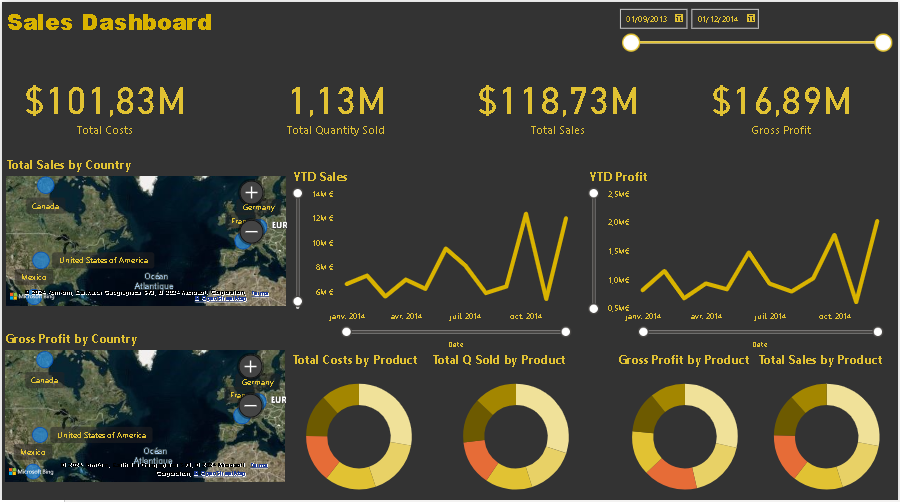

The dashboard page shown, as its layout file describes it:
{"tool":"powerbi","page":{"name":"Sales Dash","canvas":[1280,720],"ordinal":0},"visuals":[{"type":"card","fields":{"Values":["financials.Total Sales"]},"box":[640,87.3,307.4,114.2],"z":0},{"type":"card","fields":{"Values":["financials.Gross Profit"]},"box":[947.4,87.3,332.6,114.2],"z":1000},{"type":"slicer","fields":{"Values":["financials.Date"]},"box":[870.1,0,409.9,87.3],"z":2000},{"type":"donutChart","fields":{"Category":["financials.Product"],"Y":["financials.Total Sales"]},"box":[1075.1,498.9,204.9,221.7],"z":3000},{"type":"donutChart","fields":{"Y":["financials.Gross Profit"],"Category":["financials.Product"]},"box":[875.2,498.9,199.9,221.7],"z":4000},{"type":"donutChart","title":"Total Q Sold by Product","fields":{"Category":["financials.Product"],"Y":["financials.Total Quantity Sold"]},"box":[609.8,498.9,248.6,221.7],"z":5000},{"type":"donutChart","fields":{"Category":["financials.Product"],"Y":["financials.Total Costs"]},"box":[409.9,498.9,199.9,221.7],"z":6000},{"type":"map","fields":{"Category":["financials.Country"],"Size":["financials.Gross Profit"]},"box":[0,468.7,409.9,221.7],"z":7000},{"type":"card","fields":{"Values":["financials.Total Quantity Sold"]},"box":[314.1,87.3,325.9,114.2],"z":8000},{"type":"card","fields":{"Values":["financials.Total Costs"]},"box":[1.7,87.3,292.3,114.2],"z":9000},{"type":"map","fields":{"Size":["financials.Total Sales"],"Category":["financials.Country"]},"box":[1.7,220.1,409.9,220.1],"z":10000},{"type":"textbox","box":[1.7,0,856.7,67.2],"z":11000},{"type":"lineChart","title":"YTD Sales ","fields":{"Y":["financials.YTD_Sales"],"Category":["financials.Date"]},"box":[411.5,236.9,423.3,262],"z":12000},{"type":"lineChart","title":"YTD Profit","fields":{"Category":["financials.Date"],"Y":["financials.YTD_Profit"]},"box":[834.9,236.9,445.1,262],"z":13000}]}

Visuals, with their boxes in screenshot pixels (x1, y1, x2, y2), scaled from the page's 1280x720 canvas onto the 900x502 screenshot:
card - financials.Total Sales: (left=450, top=61, right=666, bottom=140)
card - financials.Gross Profit: (left=666, top=61, right=899, bottom=140)
slicer - financials.Date: (left=612, top=0, right=899, bottom=61)
donutChart - financials.Product x financials.Total Sales: (left=756, top=348, right=899, bottom=501)
donutChart - financials.Gross Profit x financials.Product: (left=615, top=348, right=756, bottom=501)
"Total Q Sold by Product" donutChart: (left=429, top=348, right=604, bottom=501)
donutChart - financials.Product x financials.Total Costs: (left=288, top=348, right=429, bottom=501)
map - financials.Country x financials.Gross Profit: (left=0, top=327, right=288, bottom=481)
card - financials.Total Quantity Sold: (left=221, top=61, right=450, bottom=140)
card - financials.Total Costs: (left=1, top=61, right=207, bottom=140)
map - financials.Total Sales x financials.Country: (left=1, top=153, right=289, bottom=307)
textbox: (left=1, top=0, right=604, bottom=47)
"YTD Sales " lineChart: (left=289, top=165, right=587, bottom=348)
"YTD Profit" lineChart: (left=587, top=165, right=899, bottom=348)
